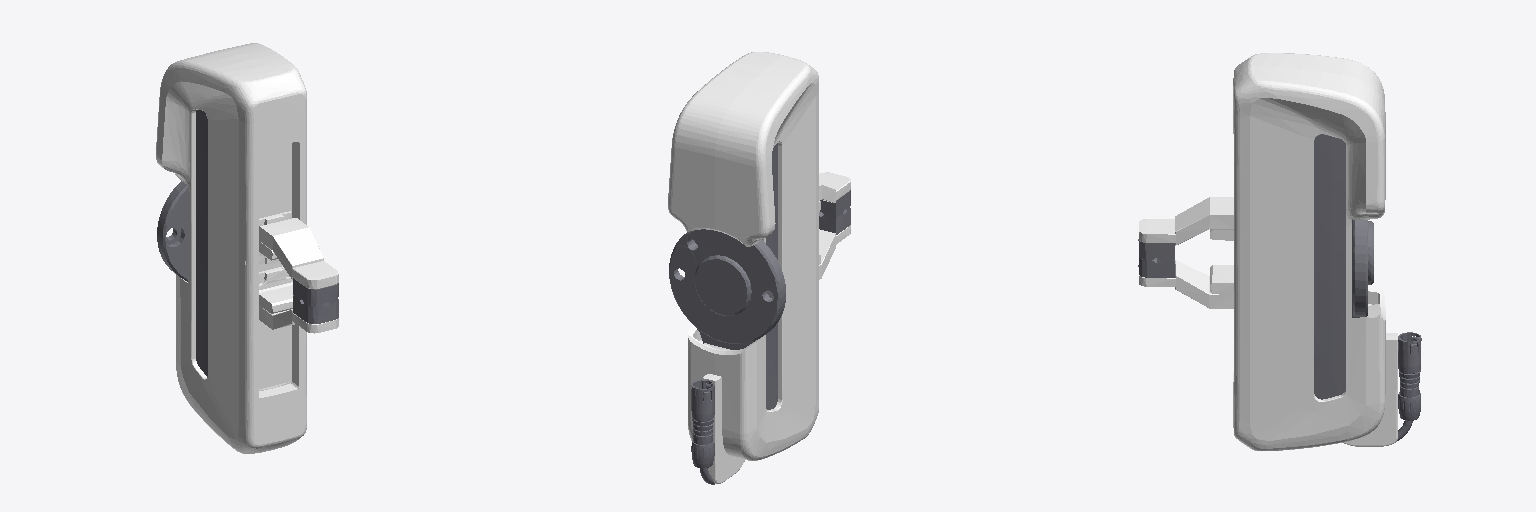
The picture shows the model from 3 angles: view 1: azimuth 30°, elevation 25°; view 2: azimuth 150°, elevation 25°; view 3: azimuth 270°, elevation 25°; orthographic projection.
Size of the model in its own units: 0.063 by 0.2045 by 0.1382.
3 materials, 1 textured.